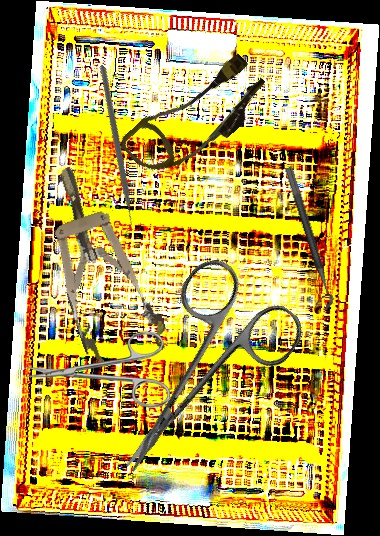Cannula: (117, 39, 276, 196)
Chopper: (28, 64, 198, 237)
Fixation Ring: (272, 166, 337, 313)
Iris Scissors: (75, 249, 311, 505), (25, 331, 170, 408)
Speculum: (26, 154, 173, 374)
